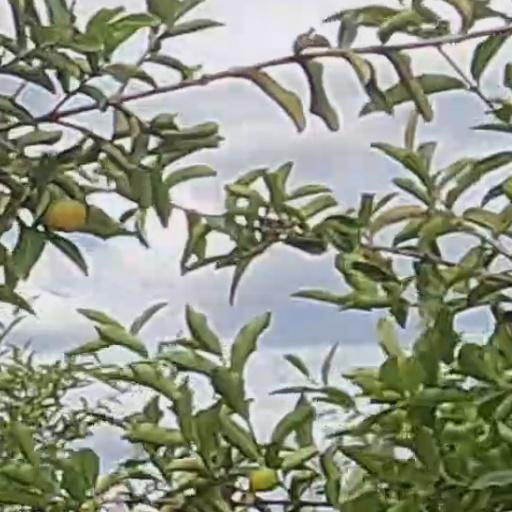acerola_vermelha: (46, 200, 87, 233)
